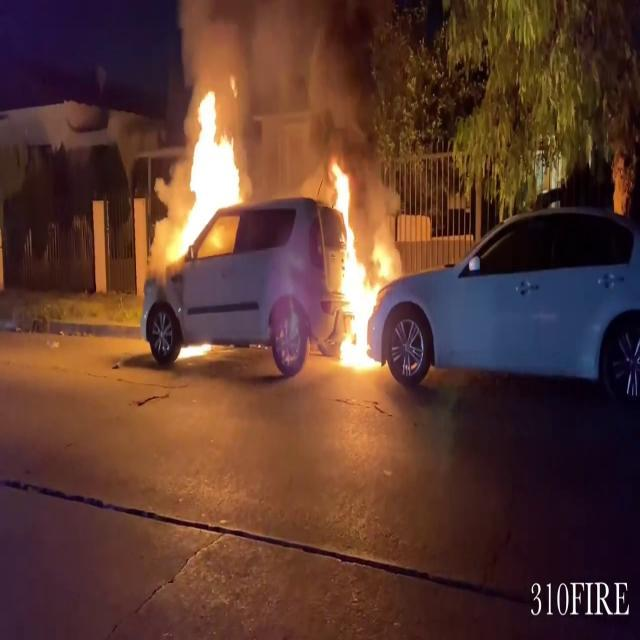Fire: (155, 86, 253, 270), (323, 153, 388, 374)
Smoke: (164, 0, 391, 156)
